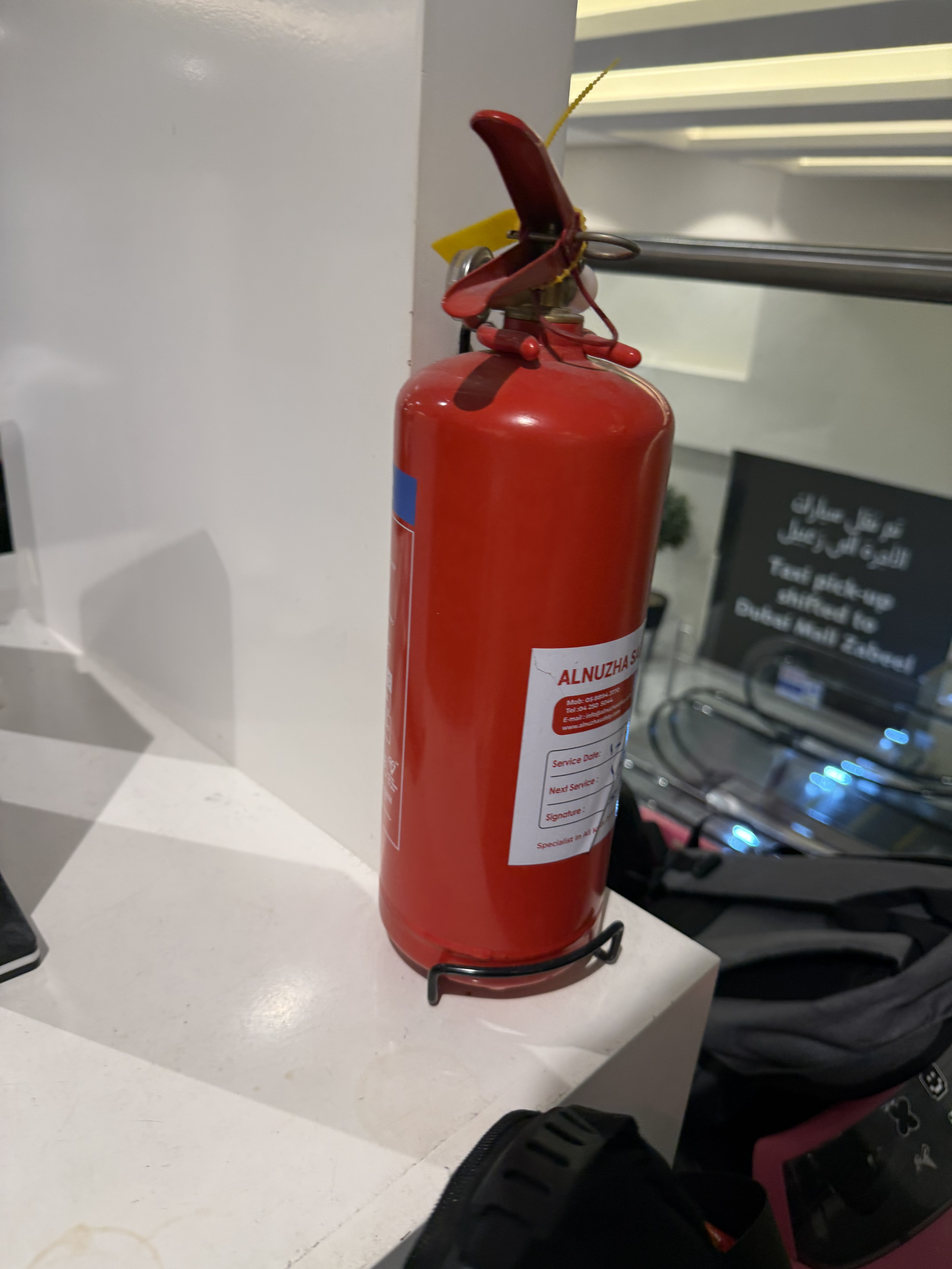fire_extinguisher: (378, 64, 676, 1005)
